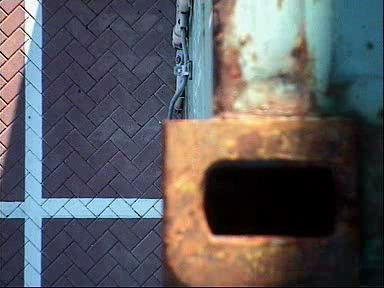groundmarker_2: (94, 179, 164, 214)
